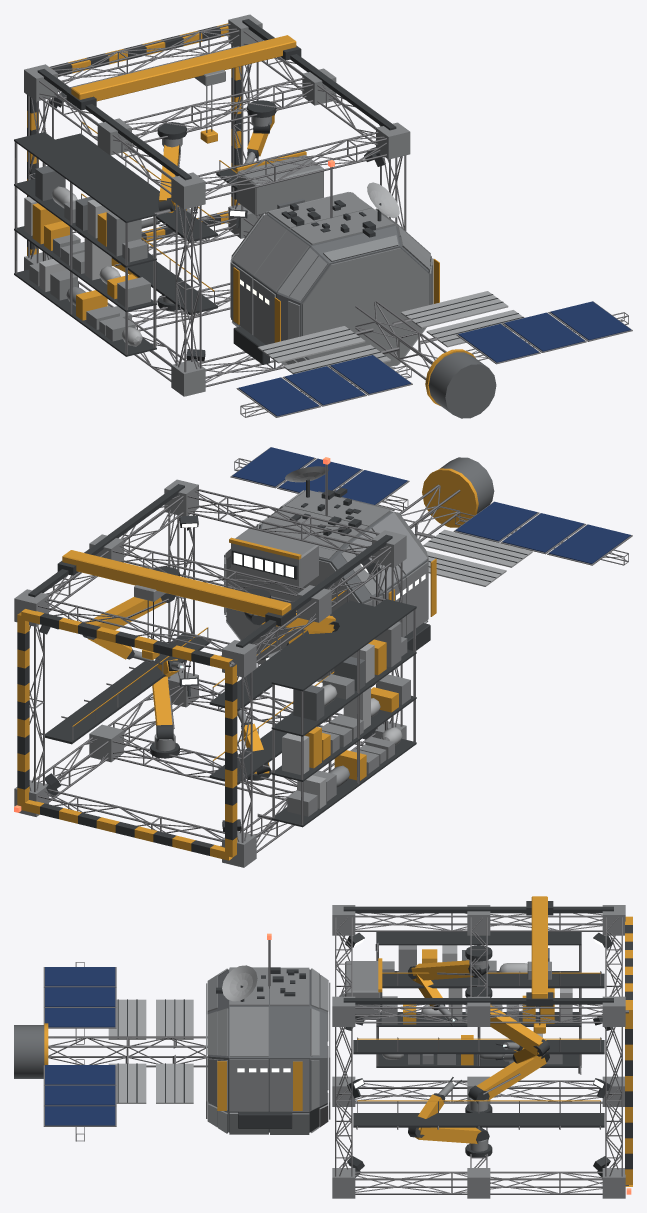
The model's file is vulcan.glb.
The picture shows the model from 3 angles, top to bottom: view 1: azimuth 30°, elevation 25°; view 2: azimuth 150°, elevation 25°; view 3: azimuth 270°, elevation 25°; orthographic projection. The views are drawn at different scales.
Parts seen in each view (by area): view 1: VulcanYard, VulcanWorkshopPlates, VulcanWorkshop, VulcanMachinery; view 2: VulcanYard, VulcanWorkshopPlates, VulcanWorkshop, VulcanMachinery; view 3: VulcanYard, VulcanWorkshopPlates, VulcanWorkshop, VulcanMachinery.
Boxes of the visible parts, left/top/right/bottom form: VulcanYard: left=14, top=14, right=632, bottom=418; VulcanWorkshopPlates: left=230, top=192, right=433, bottom=379; VulcanWorkshop: left=232, top=213, right=430, bottom=359; VulcanMachinery: left=281, top=200, right=375, bottom=237; VulcanYard: left=14, top=447, right=632, bottom=867; VulcanWorkshopPlates: left=224, top=490, right=428, bottom=682; VulcanWorkshop: left=226, top=511, right=426, bottom=679; VulcanMachinery: left=289, top=487, right=361, bottom=535; VulcanYard: left=14, top=896, right=632, bottom=1198; VulcanWorkshopPlates: left=206, top=967, right=330, bottom=1134; VulcanWorkshop: left=208, top=969, right=327, bottom=1132; VulcanMachinery: left=216, top=967, right=305, bottom=998.
Bounding box in the file's own units: 30.06 × 17.42 × 45.8.
